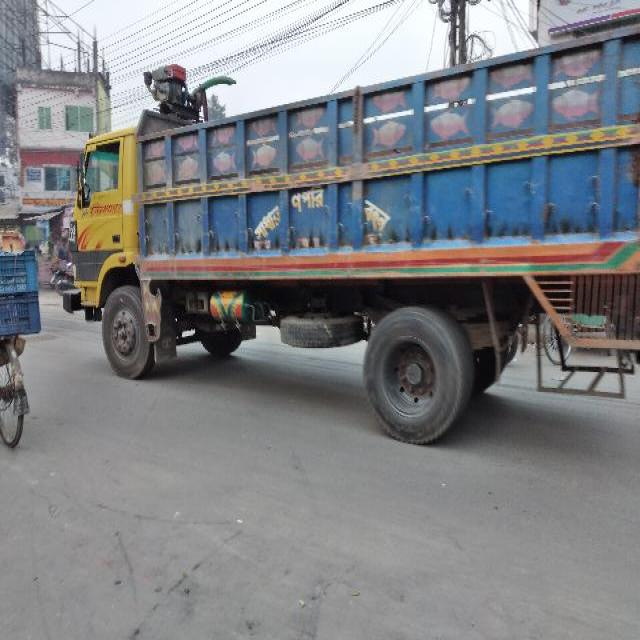bicycle: (0, 327, 28, 446)
motorbike: (48, 262, 78, 301)
truck: (65, 24, 639, 452)
